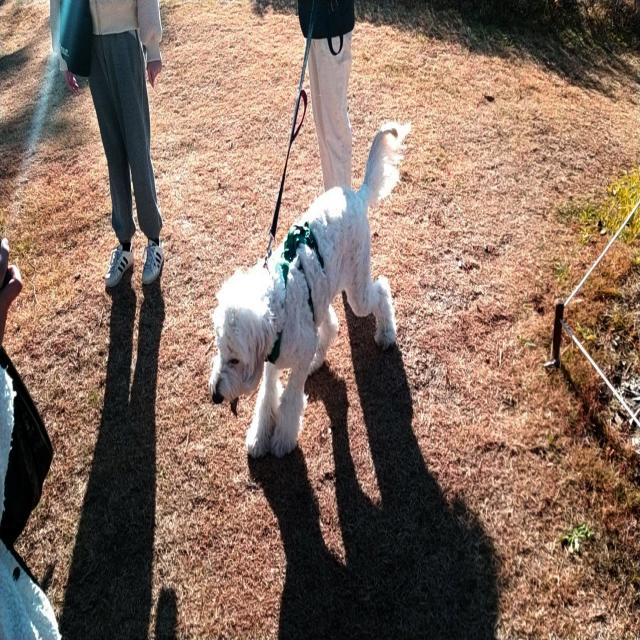Leashed_Dog: (208, 0, 412, 461)
